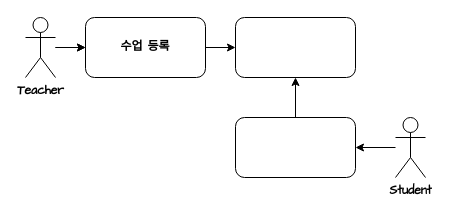
The diagram is 449 pixels wide and 216 high, and some of its shapes have lost their labels. The box of each missing label's shape, as (x1, y1, x2, y2) in pixels:
모집 공고 등록: (234, 16, 356, 78)
수업 신청: (234, 116, 356, 178)
